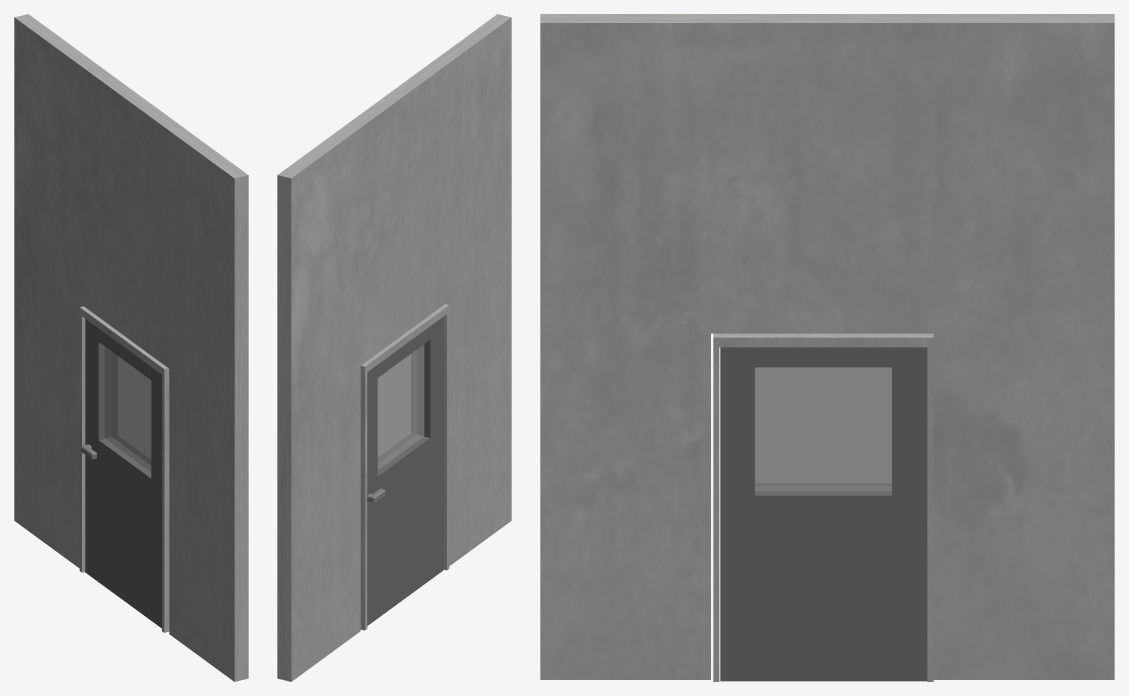
Rendered from MuurDeur1.fbx.
3 views of the same model, side by side, from view 1: azimuth 30°, elevation 25°; view 2: azimuth 150°, elevation 25°; view 3: azimuth 270°, elevation 25° (orthographic). The views are drawn at different scales.
Parts seen in each view (by area): view 1: pasted__MuurDeurGat1, pasted__polySurface107; view 2: pasted__MuurDeurGat1, pasted__polySurface107; view 3: pasted__MuurDeurGat1, pasted__polySurface107.
Part boxes in pixels (box(x1,y1,x2,y2)): pasted__MuurDeurGat1: box(14, 14, 248, 681); pasted__polySurface107: box(81, 319, 161, 628); pasted__MuurDeurGat1: box(277, 14, 511, 681); pasted__polySurface107: box(367, 316, 443, 625); pasted__MuurDeurGat1: box(540, 14, 1114, 681); pasted__polySurface107: box(720, 347, 927, 681).
Size of the model in its own units: 1.5 by 24.74 by 19.6.
4 materials, 1 textured.
